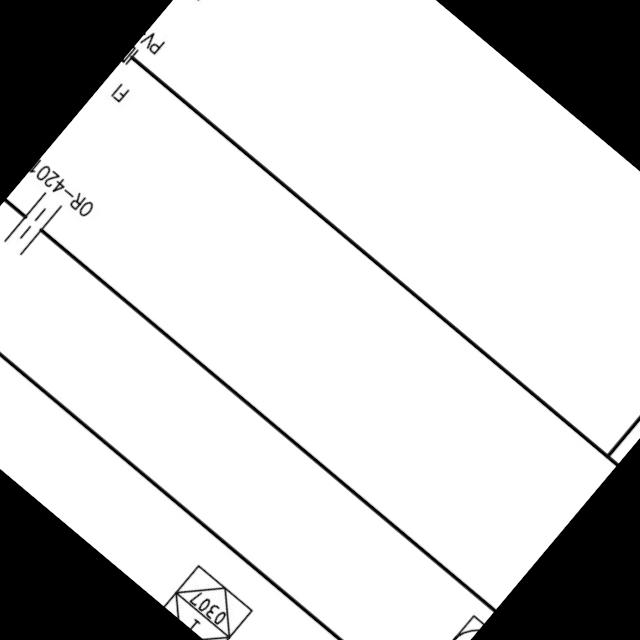O: (0, 183, 66, 262)
